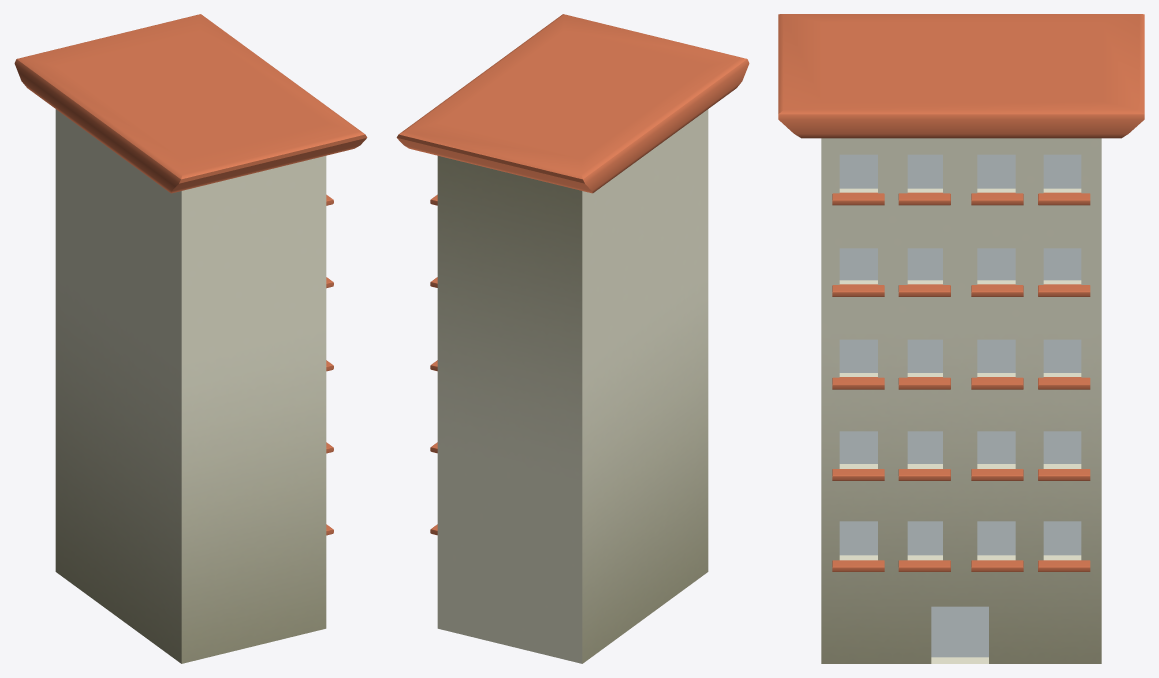
File: BuildingTall_05.fbx
3 views of the same model, side by side, from view 1: azimuth 30°, elevation 25°; view 2: azimuth 150°, elevation 25°; view 3: azimuth 270°, elevation 25° (orthographic). The views are drawn at different scales.
Parts seen in each view (by area): view 1: polySurface767; view 2: polySurface767; view 3: polySurface767.
Boxes of the visible parts, x1,y1,x2,y2 form: polySurface767: [14, 14, 367, 663]; polySurface767: [396, 14, 749, 663]; polySurface767: [778, 14, 1144, 663].
Size of the model in its own units: 5.59 by 14.33 by 8.46.
